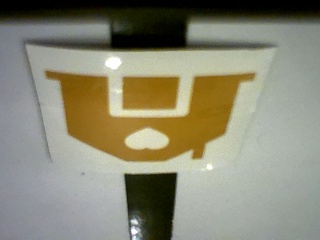Rescue_Station: (46, 69, 256, 163)
